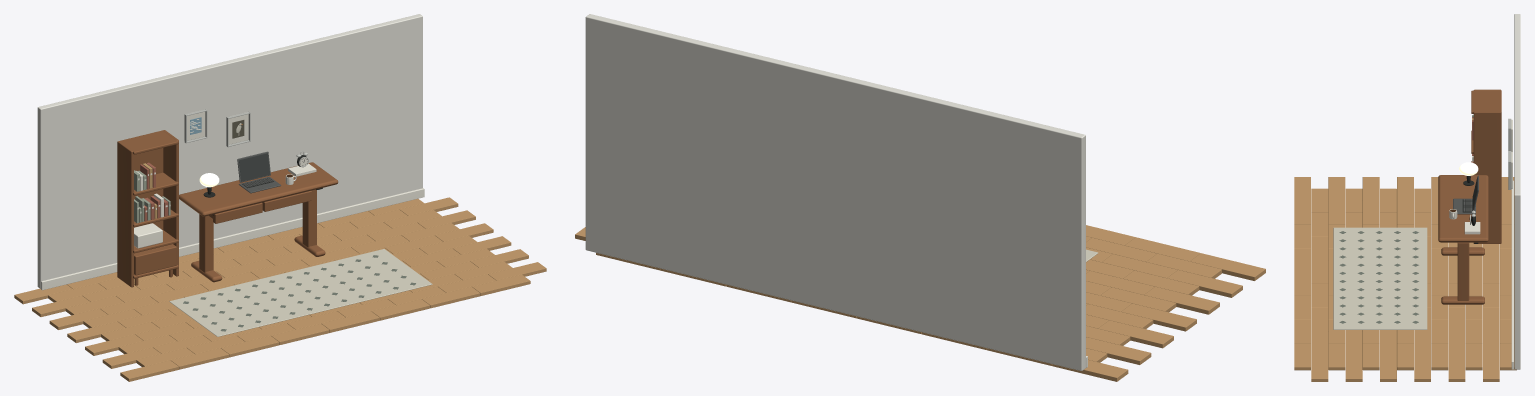
The model's file is warm_study_c4d.fbx.
The picture shows the model from 3 angles, left to right: view 1: azimuth 30°, elevation 25°; view 2: azimuth 150°, elevation 25°; view 3: azimuth 270°, elevation 25°; orthographic projection. The views are drawn at different scales.
Visible parts, largest first — view 1: Plaster back wall, Linen area rug, Solid walnut desktop, Painted skirting, Bookcase side, Bookcase side.001, Lower cabinet drawer, Walnut vertical leg, Bookcase shelf.004, Bookcase back, Walnut vertical leg.001, Display glass (+60 smaller); view 2: Plaster back wall, Oak plank.064, Oak plank.048, Oak plank.032, Oak plank, Oak plank.016, Oak plank.080, Oak plank.024, Oak plank.040, Oak plank.008, Oak plank.001, Oak plank.017 (+4 smaller); view 3: Linen area rug, Bookcase side.001, Solid walnut desktop, Plaster back wall, Walnut vertical leg.001, Bookcase shelf.004, Painted skirting, Oak plank.071, Oak plank.023, Oak plank.039, Oak plank.087, Oak plank.015 (+68 smaller).
Boxes of the visible parts, x1,y1,x2,y2 form: Plaster back wall: (37, 14, 422, 288); Linen area rug: (169, 249, 432, 336); Solid walnut desktop: (179, 162, 338, 216); Painted skirting: (41, 188, 424, 290); Bookcase side: (117, 141, 133, 287); Bookcase side.001: (163, 130, 178, 276); Lower cabinet drawer: (134, 244, 176, 275); Walnut vertical leg: (199, 214, 213, 272); Bookcase shelf.004: (120, 130, 178, 154); Bookcase back: (134, 148, 163, 230); Walnut vertical leg.001: (302, 189, 316, 247); Display glass: (239, 153, 270, 181); Plaster back wall: (585, 14, 1085, 370); Oak plank.064: (1098, 320, 1173, 348); Oak plank.048: (1121, 303, 1196, 331); Oak plank.032: (1144, 286, 1219, 314); Oak plank: (1190, 253, 1265, 280); Oak plank.016: (1167, 270, 1242, 297); Oak plank.080: (1086, 337, 1151, 364); Oak plank.024: (1123, 270, 1199, 295); Oak plank.040: (1100, 287, 1176, 312); Oak plank.008: (1146, 253, 1221, 278); Oak plank.001: (1125, 237, 1200, 261); Oak plank.017: (1102, 254, 1177, 278); Linen area rug: (1333, 227, 1427, 329); Bookcase side.001: (1473, 111, 1501, 243); Solid walnut desktop: (1438, 175, 1488, 242); Plaster back wall: (1514, 14, 1520, 369); Walnut vertical leg.001: (1457, 242, 1469, 300); Bookcase shelf.004: (1471, 90, 1501, 113); Painted skirting: (1511, 180, 1513, 369); Oak plank.071: (1431, 343, 1448, 370); Oak plank.023: (1328, 343, 1345, 370); Oak plank.039: (1362, 343, 1379, 370); Oak plank.087: (1465, 343, 1482, 370); Oak plank.015: (1311, 355, 1328, 381).
Size of the model in its own units: 891 by 367 by 423.
